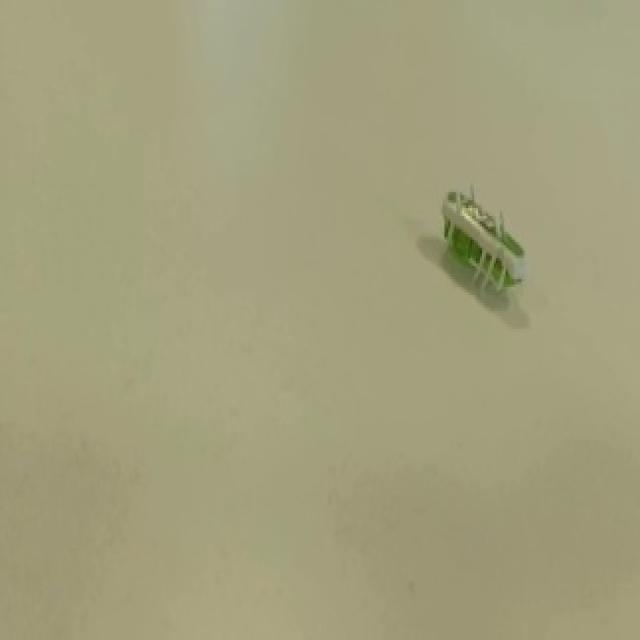4_NanoBug_Blanco: (418, 142, 554, 332)
